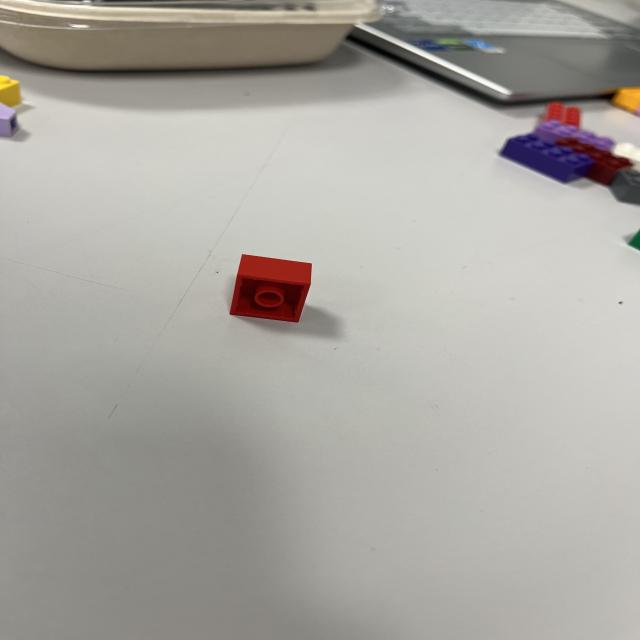C2x2x1: (224, 253, 319, 325)
